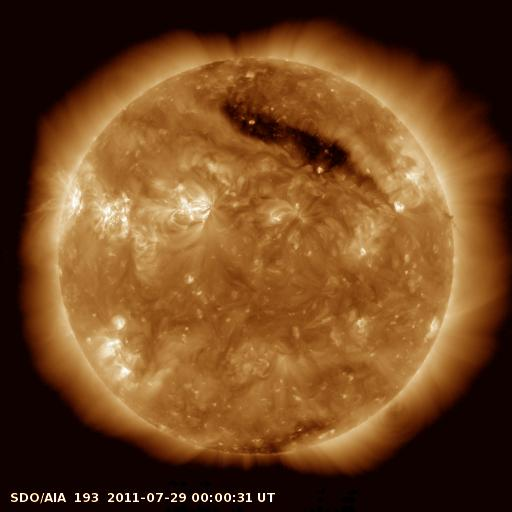coronal_hole: (217, 100, 384, 198), (210, 427, 327, 460)
